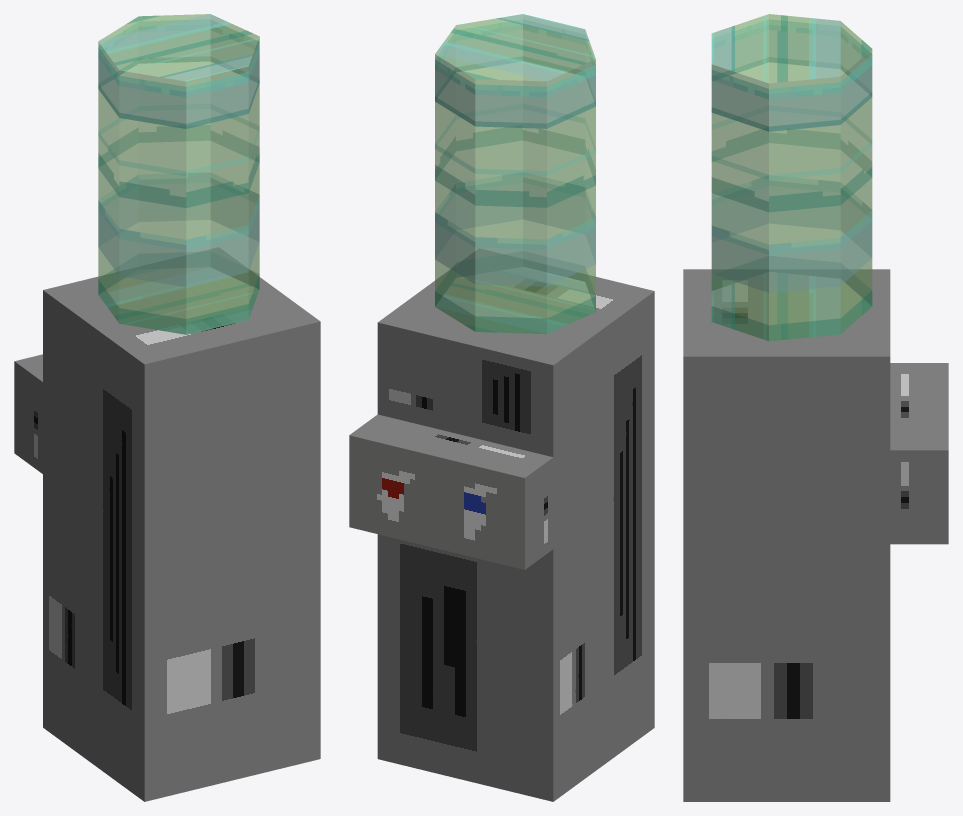
Rendered from water_cooler.gltf.
3 views of the same model, side by side, from view 1: azimuth 30°, elevation 25°; view 2: azimuth 150°, elevation 25°; view 3: azimuth 270°, elevation 25° (orthographic).
Parts seen in each view (by area): view 1: water cooler; view 2: water cooler; view 3: water cooler.
Part boxes in pixels (bbox=[...]): water cooler: bbox=[14, 14, 320, 801]; water cooler: bbox=[349, 14, 654, 801]; water cooler: bbox=[683, 14, 948, 801].
Bounding box in the file's own units: 2 × 7.56 × 2.56.
2 materials, 2 textured.
